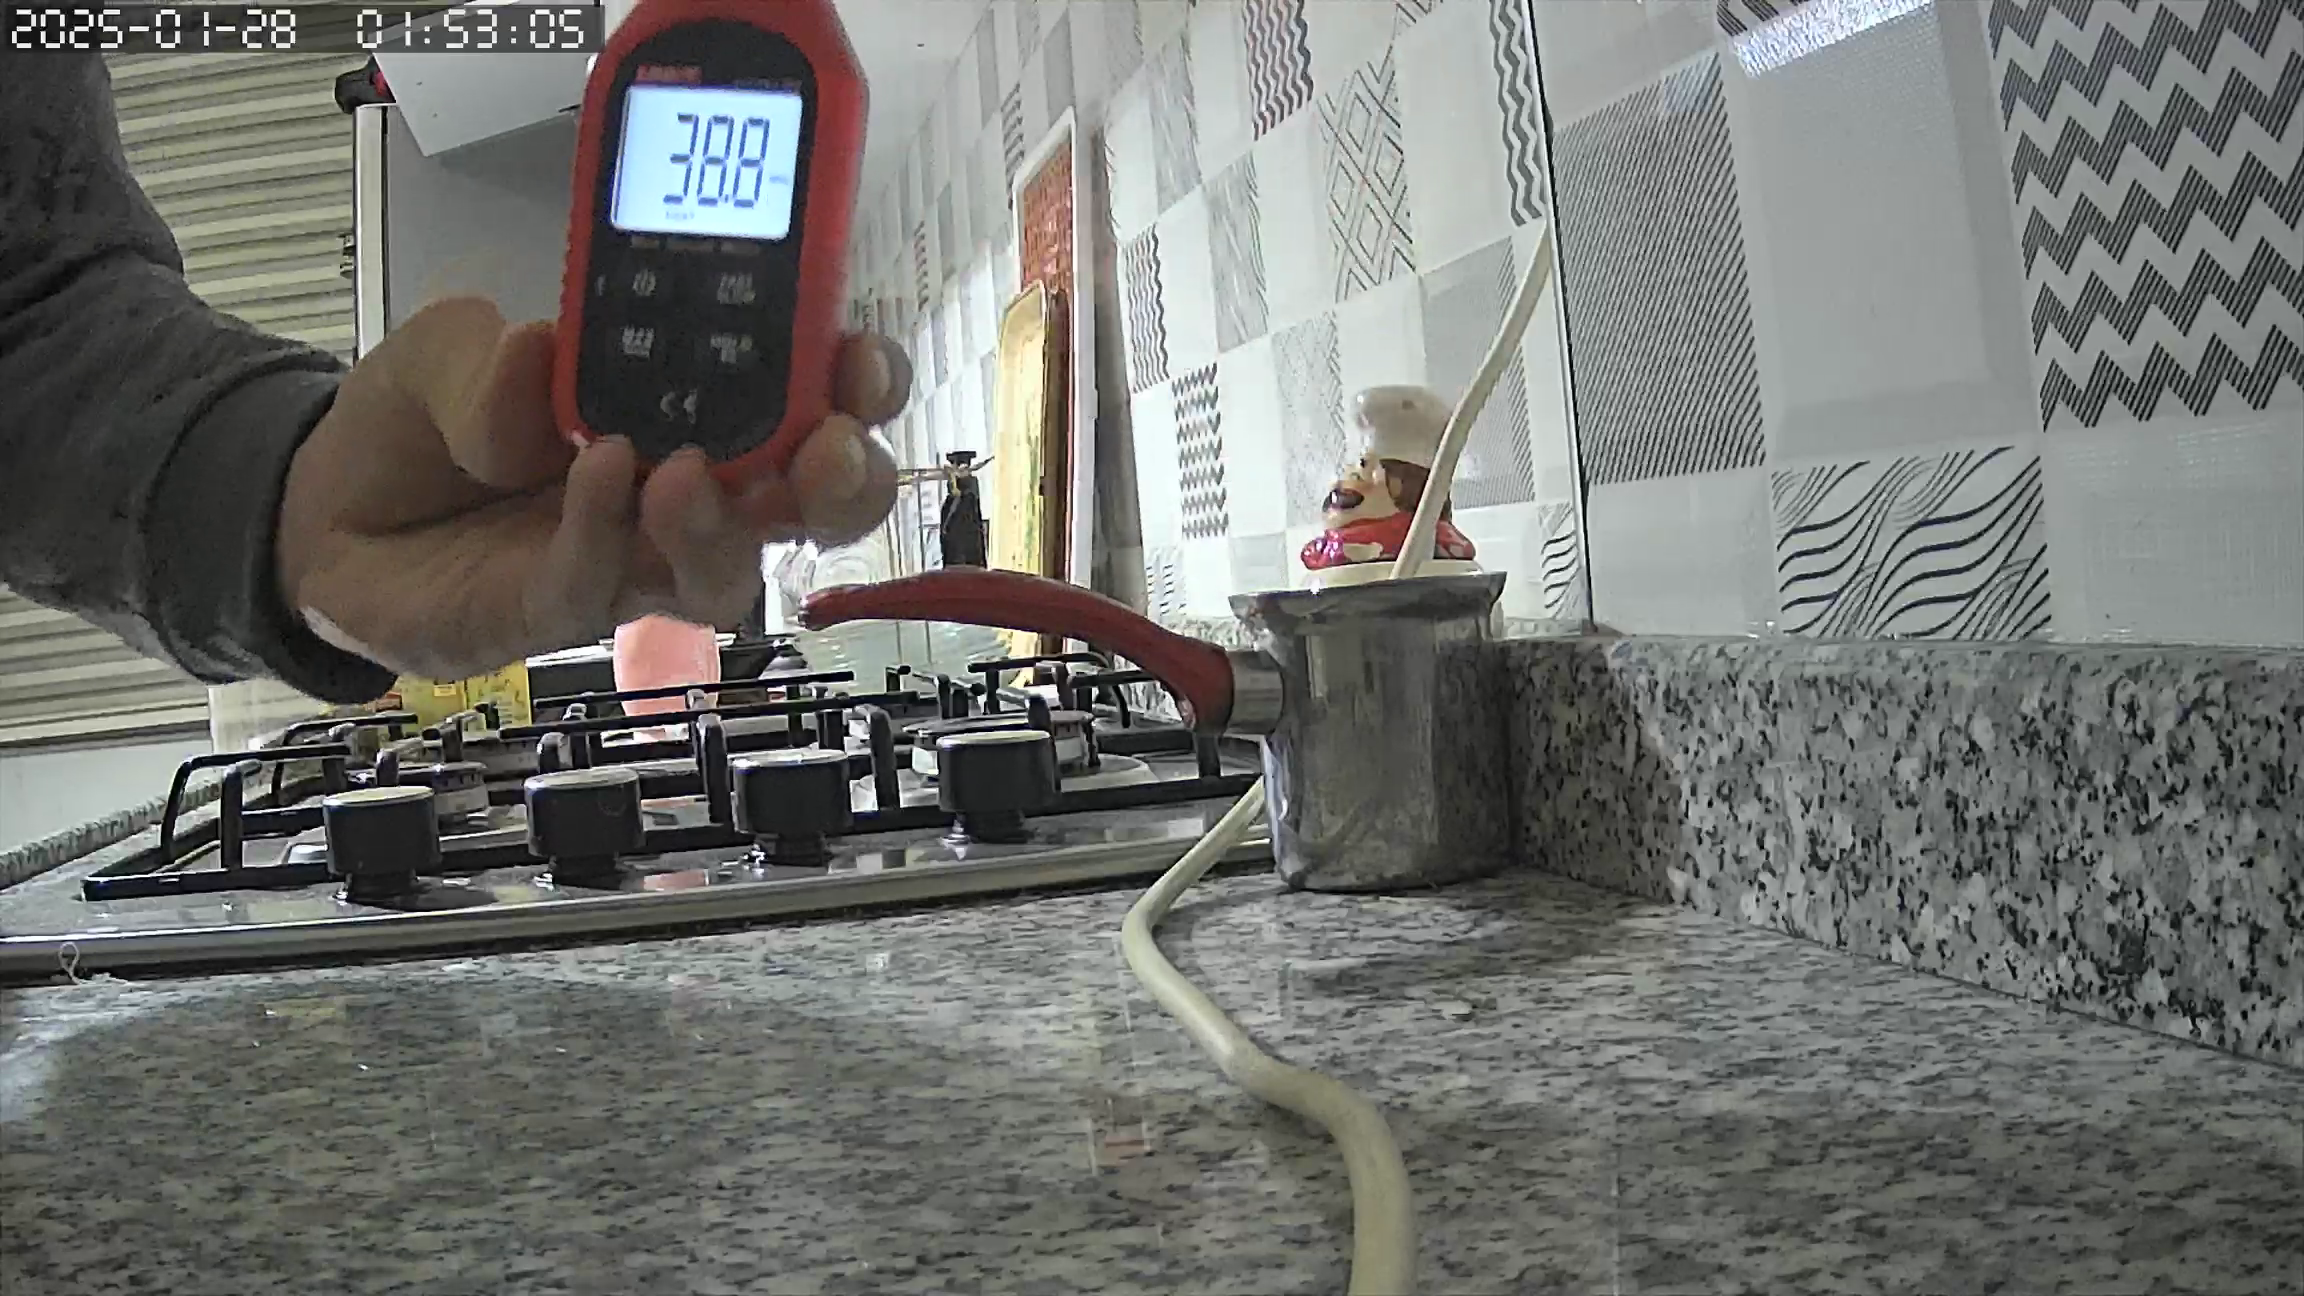screen: (611, 82, 802, 245)
